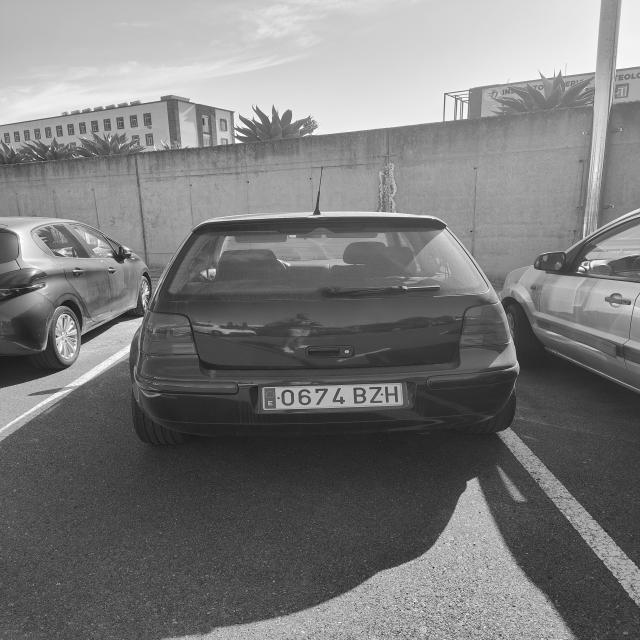License-Plate: (262, 382, 405, 411)
